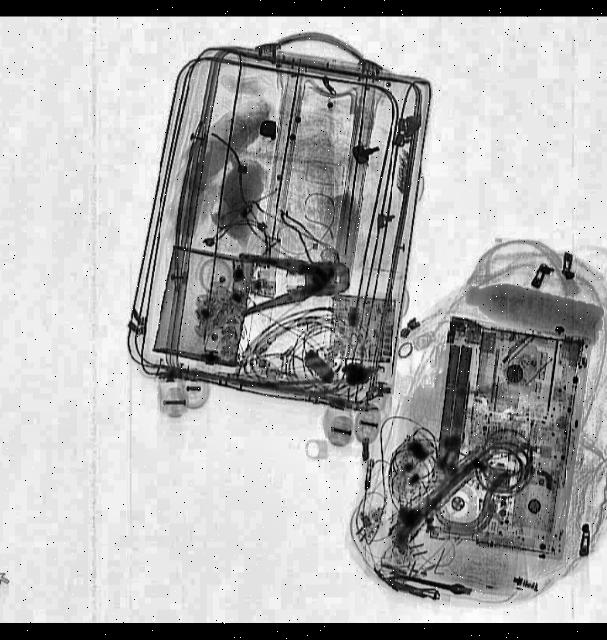Pliers: (237, 246, 352, 316)
